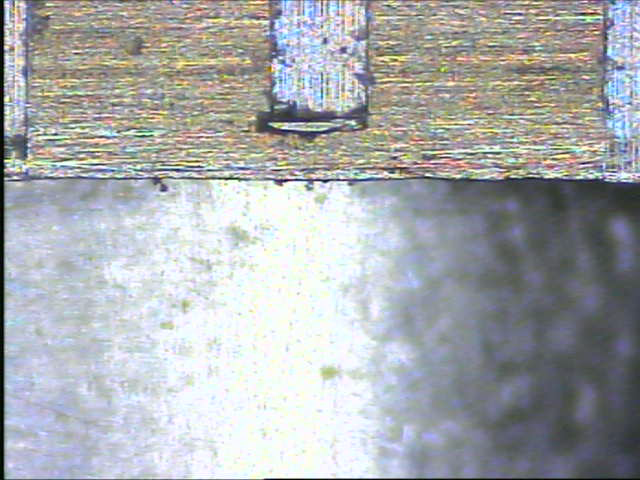line: (266, 1, 370, 142)
